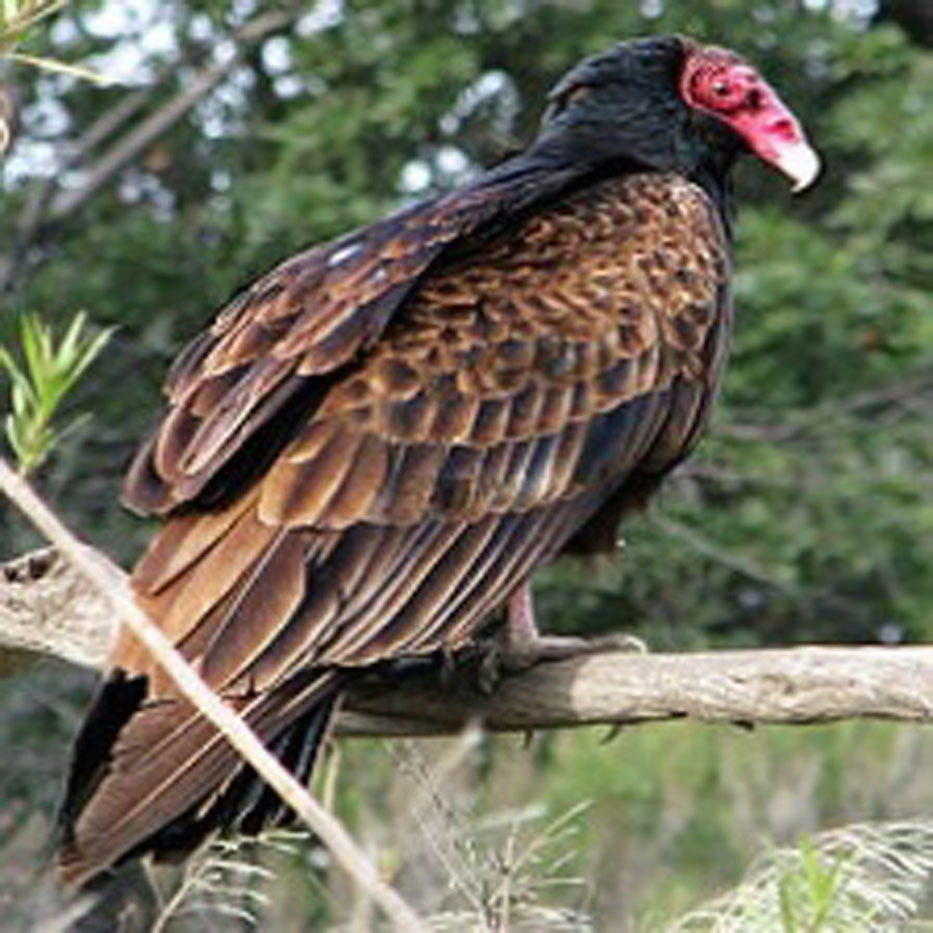Pengoyak Daging: (769, 134, 838, 213)
